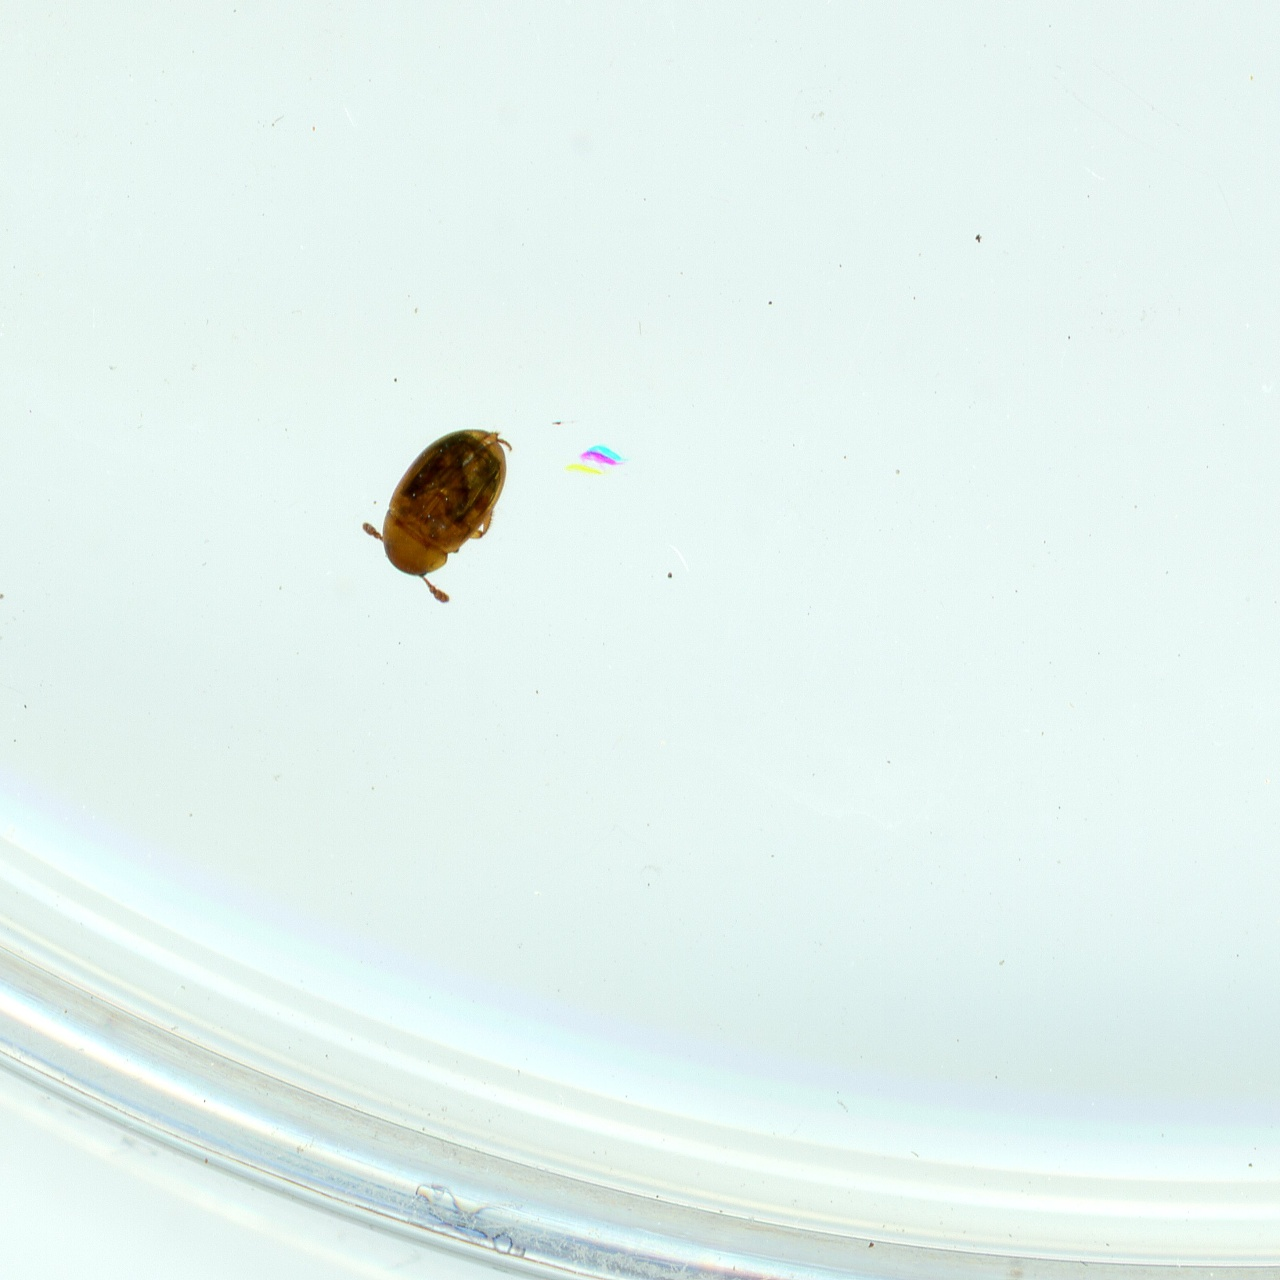arthropod: (365, 421, 517, 608), (561, 444, 625, 474)
